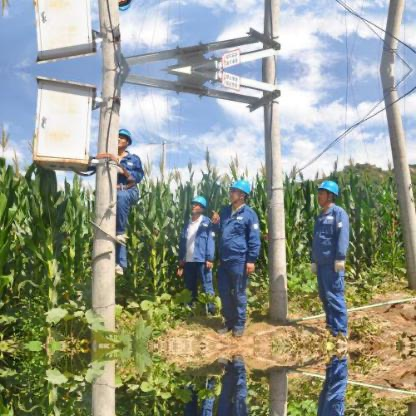Safety Helmet: (308, 173, 347, 221), (182, 187, 215, 229), (225, 174, 257, 214), (110, 125, 138, 159)
